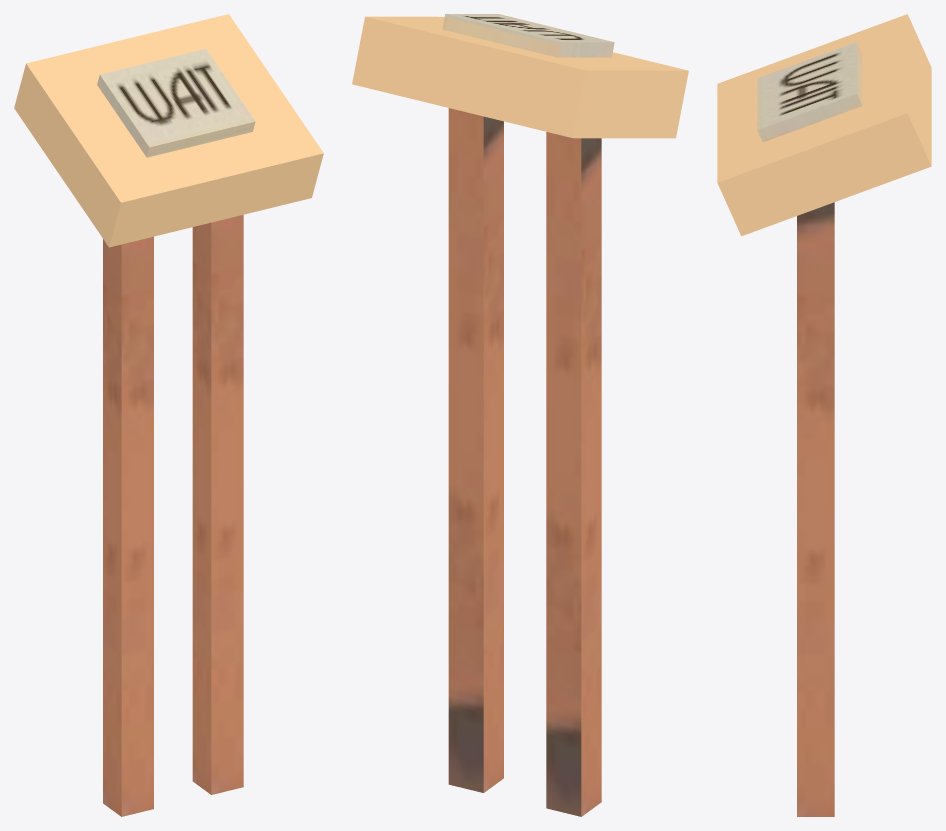
The model's file is tower-station-caller-button-art.glb.
3 renders of one model, left to right at view 1: azimuth 30°, elevation 25°; view 2: azimuth 150°, elevation 25°; view 3: azimuth 270°, elevation 25°, orthographic. The views are drawn at different scales.
Parts seen in each view (by area): view 1: Tower_Station_CallerButton_Art; view 2: Tower_Station_CallerButton_Art; view 3: Tower_Station_CallerButton_Art.
Part boxes in pixels (x1,y1,x2,y2): Tower_Station_CallerButton_Art: [14, 14, 323, 816]; Tower_Station_CallerButton_Art: [352, 14, 688, 816]; Tower_Station_CallerButton_Art: [717, 14, 931, 816].
Bounding box in the file's own units: 0.3733 × 1.27 × 0.341.
1 material, 1 textured.
